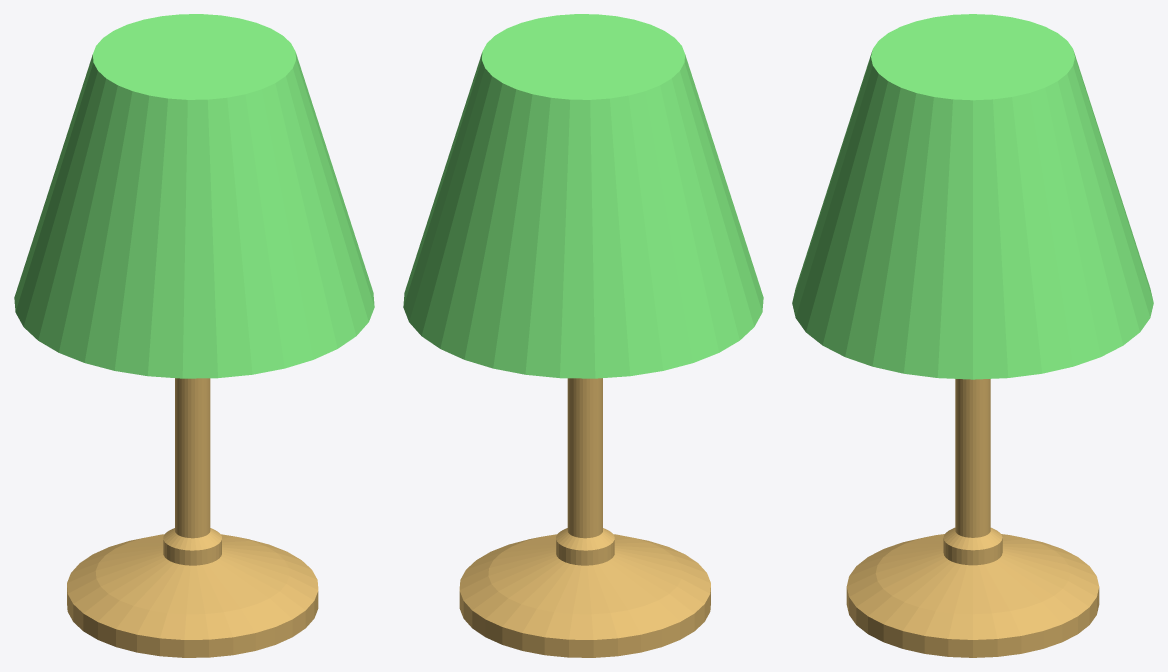
File: Lampe.fbx
The picture shows the model from 3 angles, left to right: view 1: azimuth 30°, elevation 25°; view 2: azimuth 150°, elevation 25°; view 3: azimuth 270°, elevation 25°; orthographic projection.
Parts seen in each view (by area): view 1: Cylinder; view 2: Cylinder; view 3: Cylinder.
Part boxes in pixels (x1=…): Cylinder: x1=14, y1=14, x2=374, y2=657; Cylinder: x1=403, y1=14, x2=763, y2=657; Cylinder: x1=792, y1=14, x2=1153, y2=657.
Size of the model in its own units: 198 by 331 by 198.
